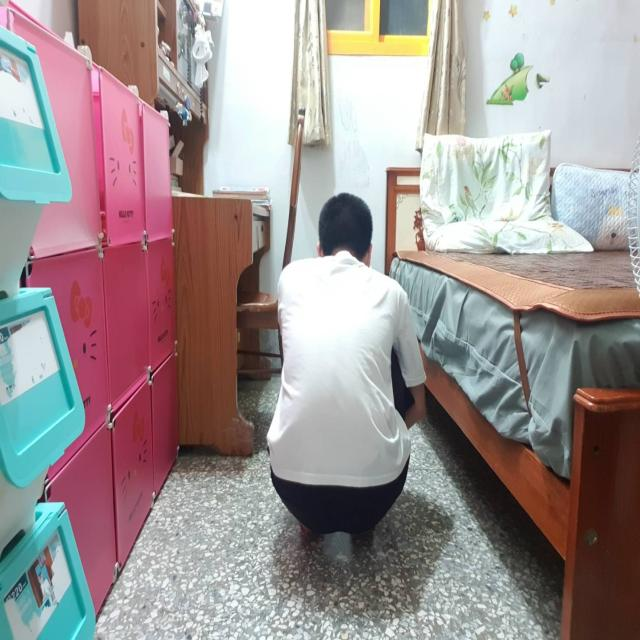sit: (260, 156, 423, 564)
